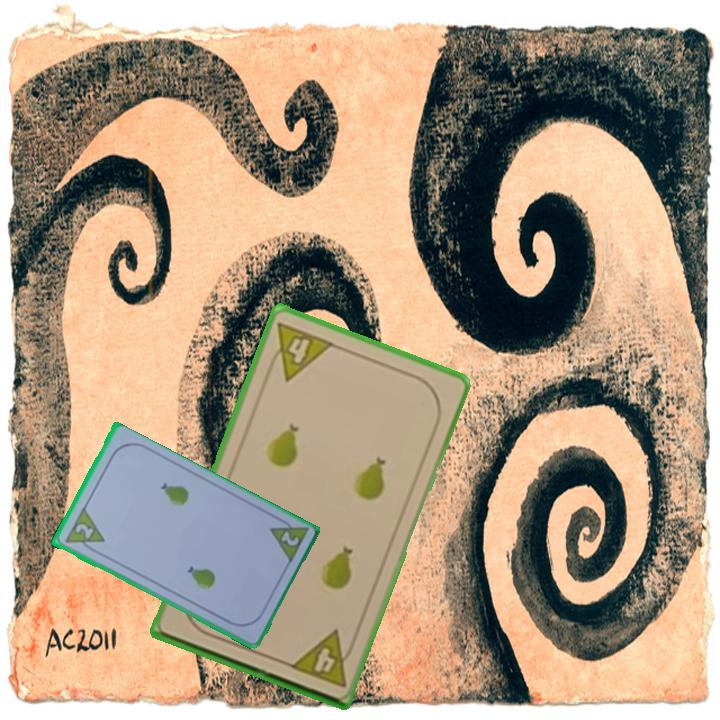2p: (265, 512, 311, 567), (71, 520, 96, 542)
4p: (262, 318, 337, 384), (286, 626, 359, 691)
